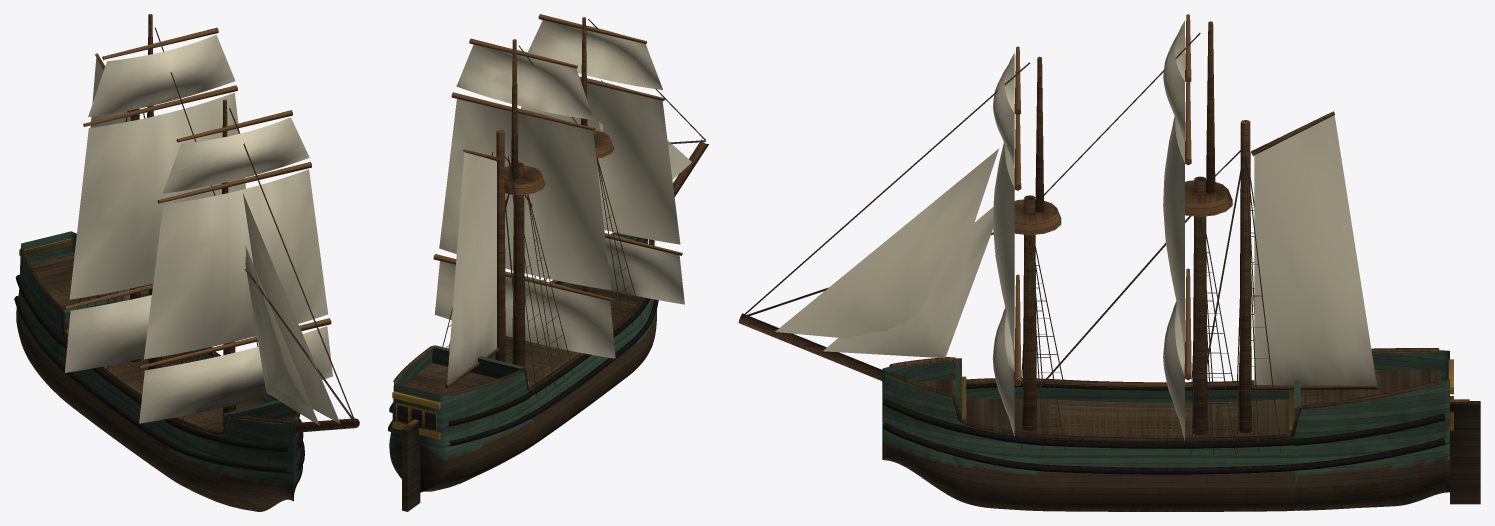
Rendered from model_built.glb.
The picture shows the model from 3 angles, left to right: view 1: azimuth 30°, elevation 25°; view 2: azimuth 150°, elevation 25°; view 3: azimuth 270°, elevation 25°; orthographic projection. The views are drawn at different scales.
Visible parts, largest first — view 1: sails, hull, rig, rigging; view 2: sails, hull, rig, rigging; view 3: hull, sails, rig, rigging.
Boxes of the visible parts, x1=… form: sails: x1=65, y1=34, x2=340, y2=425; hull: x1=14, y1=231, x2=304, y2=511; rig: x1=64, y1=14, x2=359, y2=432; rigging: x1=65, y1=27, x2=356, y2=434; sails: x1=434, y1=20, x2=691, y2=384; hull: x1=388, y1=232, x2=658, y2=511; rig: x1=433, y1=14, x2=708, y2=387; rigging: x1=442, y1=19, x2=705, y2=398; hull: x1=882, y1=348, x2=1480, y2=511; sails: x1=775, y1=20, x2=1376, y2=440; rig: x1=738, y1=14, x2=1376, y2=435; rigging: x1=740, y1=33, x2=1280, y2=454.
Size of the model in its own units: 11.75 by 24.41 by 33.99.
Materials: 4 (2 with a texture image).
